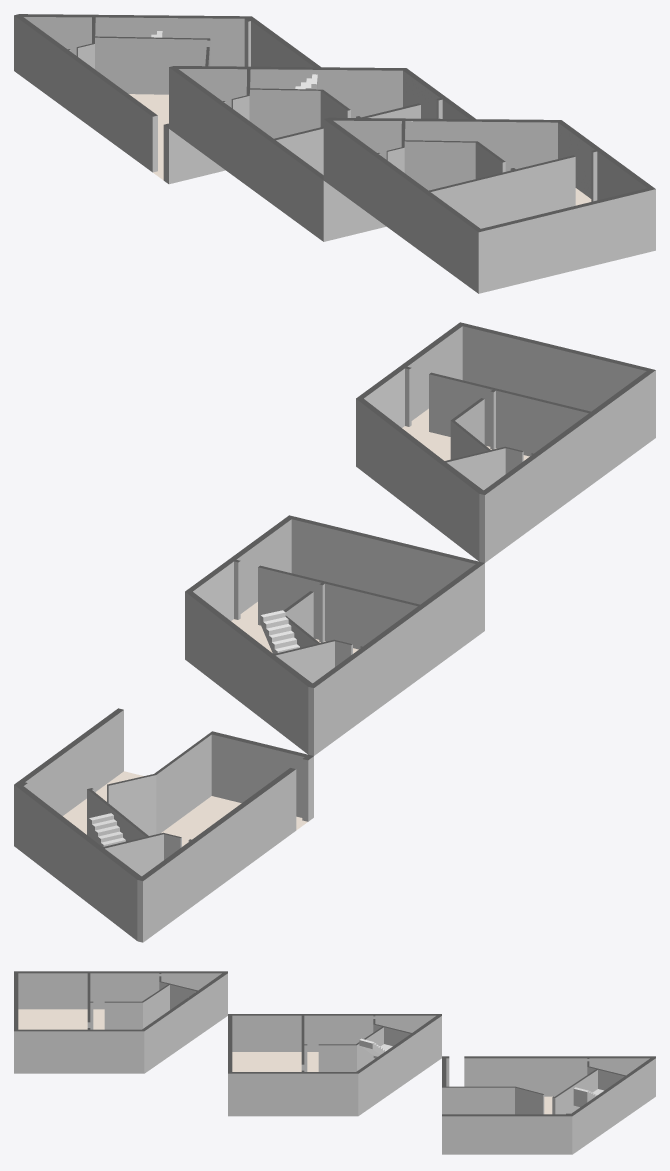
3 renders of one model, top to bottom at view 1: azimuth 30°, elevation 25°; view 2: azimuth 150°, elevation 25°; view 3: azimuth 270°, elevation 25°, orthographic. The views are drawn at different scales.
Parts seen in each view (by area): view 1: 51142, 50874, 50690, 51144, 50794, 50688, 50604; view 2: 51142, 50874, 50690, 51144, 50794, 50688, 50604, 47421, 51140, 50491; view 3: 50690, 51142, 50874, 51144, 50688, 50794, 51140, 50872, 50491.
Boxes of the visible parts, x1,y1,x2,y2 form: 51142: (323,119,655,293); 50874: (169,67,468,241); 50690: (14,15,313,184); 51144: (324,117,655,232); 50794: (169,66,475,179); 50688: (14,14,320,128); 50604: (129,94,168,180); 51142: (356,326,655,562); 50874: (185,519,484,755); 50690: (14,710,313,942); 51144: (356,322,655,494); 50794: (185,515,484,687); 50688: (14,708,313,880); 50604: (63,771,307,846); 47421: (260,610,299,653); 51140: (402,408,529,460); 50491: (89,813,125,846); 50690: (442,1058,655,1154); 51142: (14,973,227,1073); 50874: (228,1015,441,1116); 51144: (14,971,227,1031); 50688: (442,1056,655,1116); 50794: (228,1014,441,1073); 51140: (18,1009,104,1029); 50872: (232,1052,318,1071); 50491: (573,1087,597,1107).
Size of the model in its own units: 16.73 by 9.62 by 45.36.
